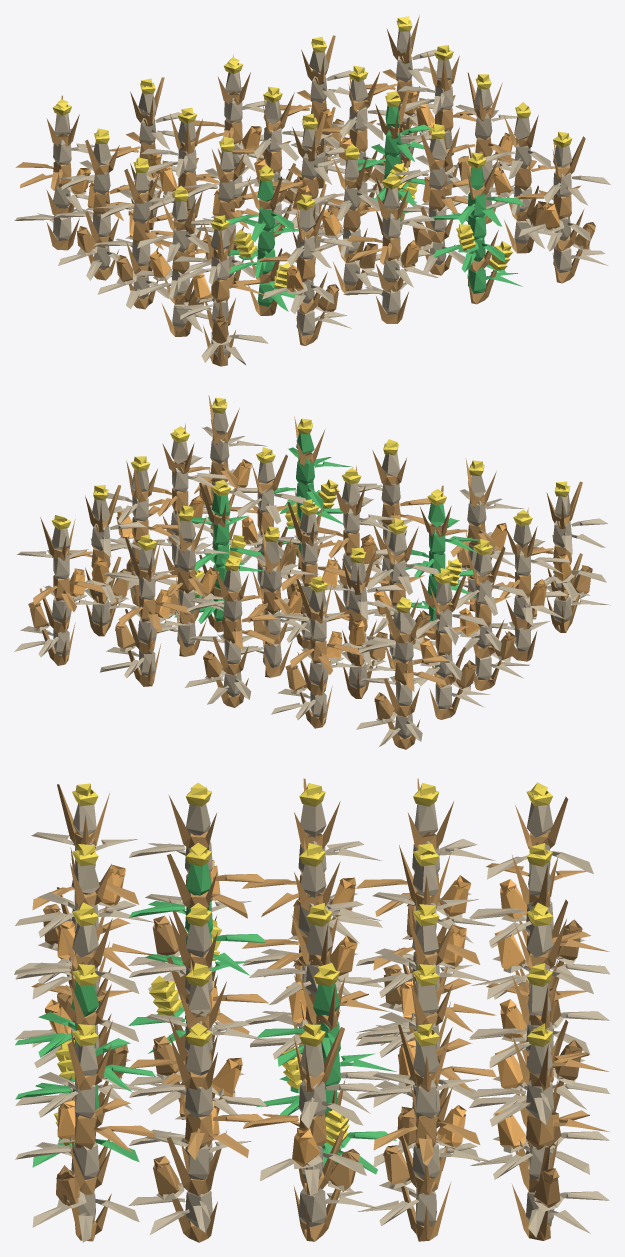
File: corn_field_lod2.fbx
The picture shows the model from 3 angles, top to bottom: view 1: azimuth 30°, elevation 25°; view 2: azimuth 150°, elevation 25°; view 3: azimuth 270°, elevation 25°; orthographic projection. The views are drawn at different scales.
Visible parts, largest first — view 1: corn_field_lod2; view 2: corn_field_lod2; view 3: corn_field_lod2.
Part boxes in pixels (x1,y1,x2,y2): corn_field_lod2: (14,15,610,366); corn_field_lod2: (14,395,610,749); corn_field_lod2: (14,778,609,1242).
Bounding box in the file's own units: 300 × 98.79 × 252.
